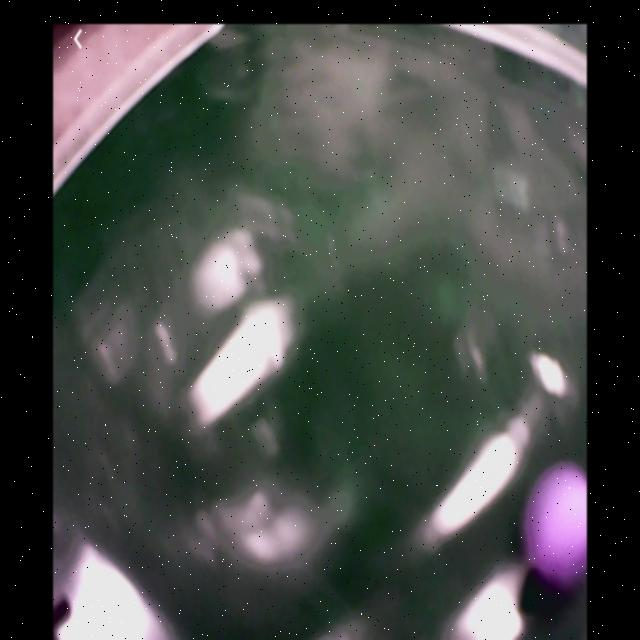ball: (522, 460, 588, 591)
